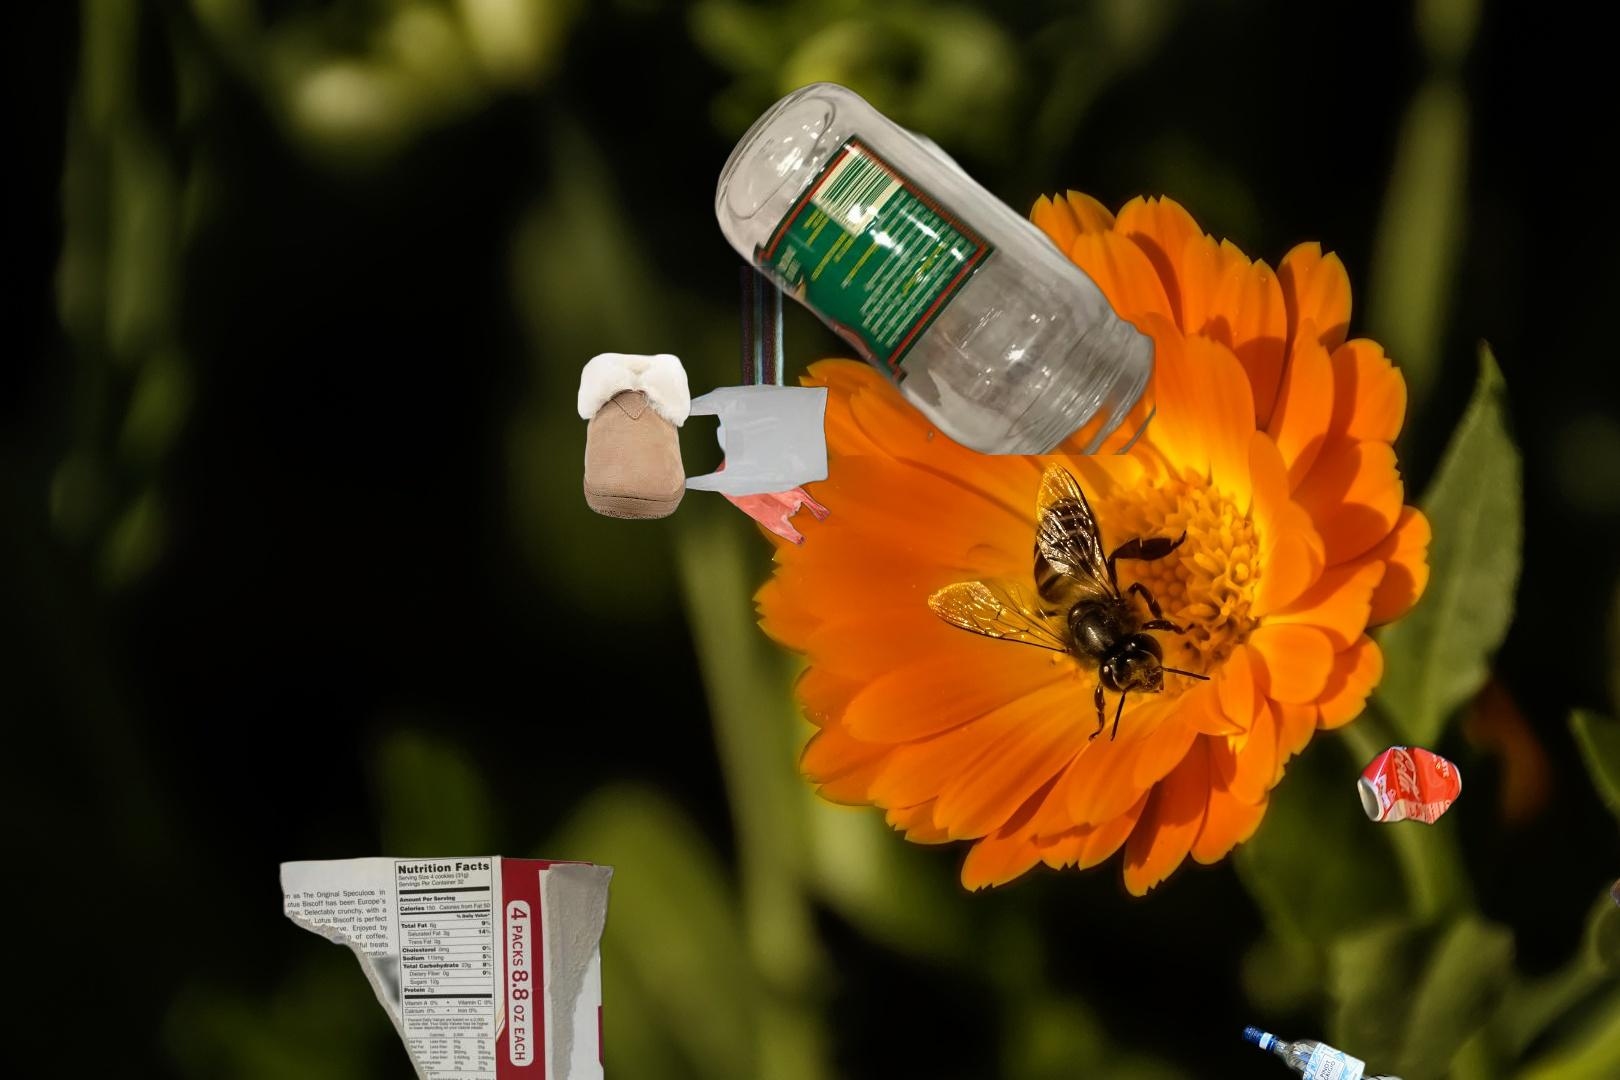glass: (709, 78, 1156, 454), (1237, 1019, 1410, 1080), (1606, 867, 1620, 1080)
metal-cans: (1352, 738, 1467, 830)
paper: (274, 851, 620, 1080)
plastic-bag: (551, 266, 835, 548)
shoes: (574, 350, 694, 522)
